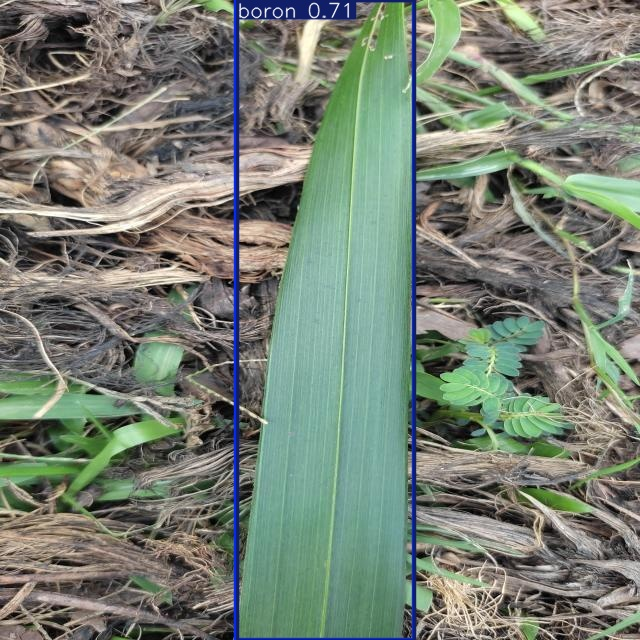Boron: (236, 0, 413, 640)
nitrogen: (238, 0, 414, 640)
